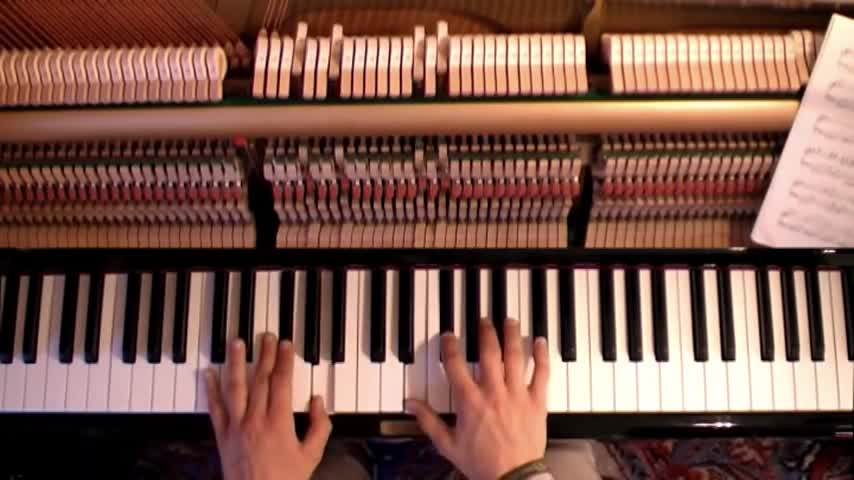left: (197, 327, 337, 480)
right: (404, 315, 550, 474)
